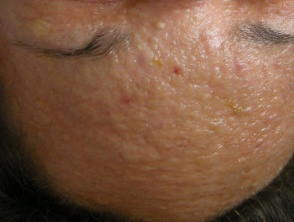SJS-TEN: (0, 0, 291, 217)
